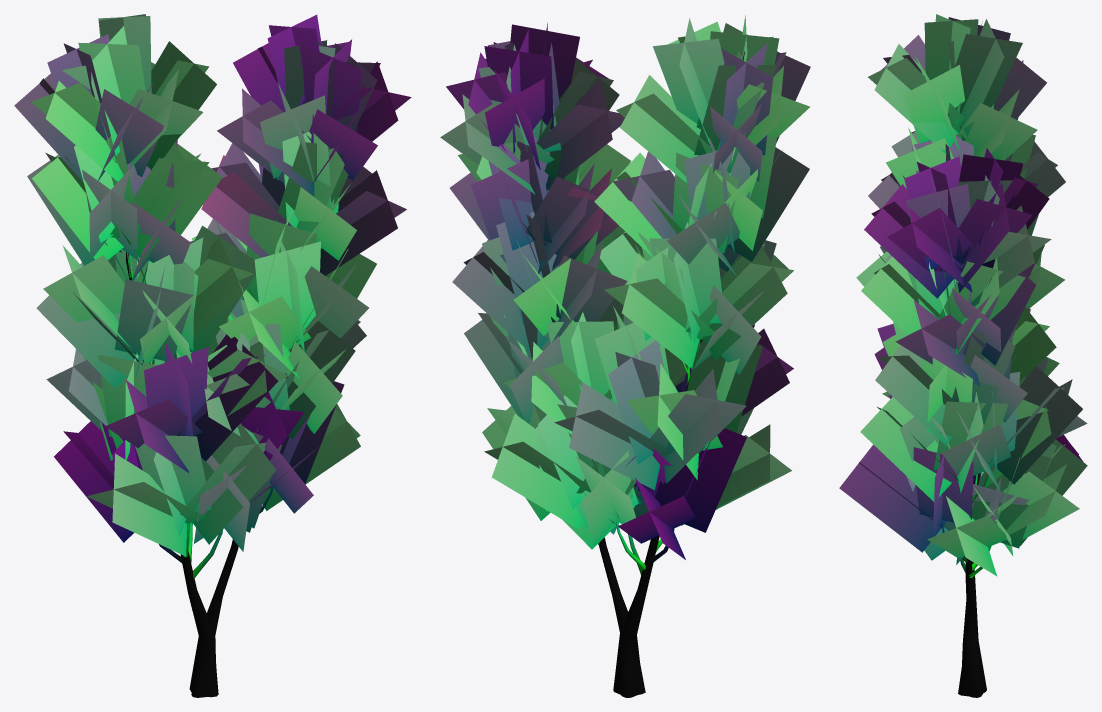
File: Tree_9_8.fbx
The picture shows the model from 3 angles, left to right: view 1: azimuth 30°, elevation 25°; view 2: azimuth 150°, elevation 25°; view 3: azimuth 270°, elevation 25°; orthographic projection. The views are drawn at different scales.
Visible parts, largest first — view 1: _8; view 2: _8; view 3: _8.
Part boxes in pixels (x1,y1,x2,y2): _8: (14, 14, 411, 697); _8: (440, 15, 810, 697); _8: (839, 14, 1087, 697).
Size of the model in its own units: 1036 by 1958 by 697.
